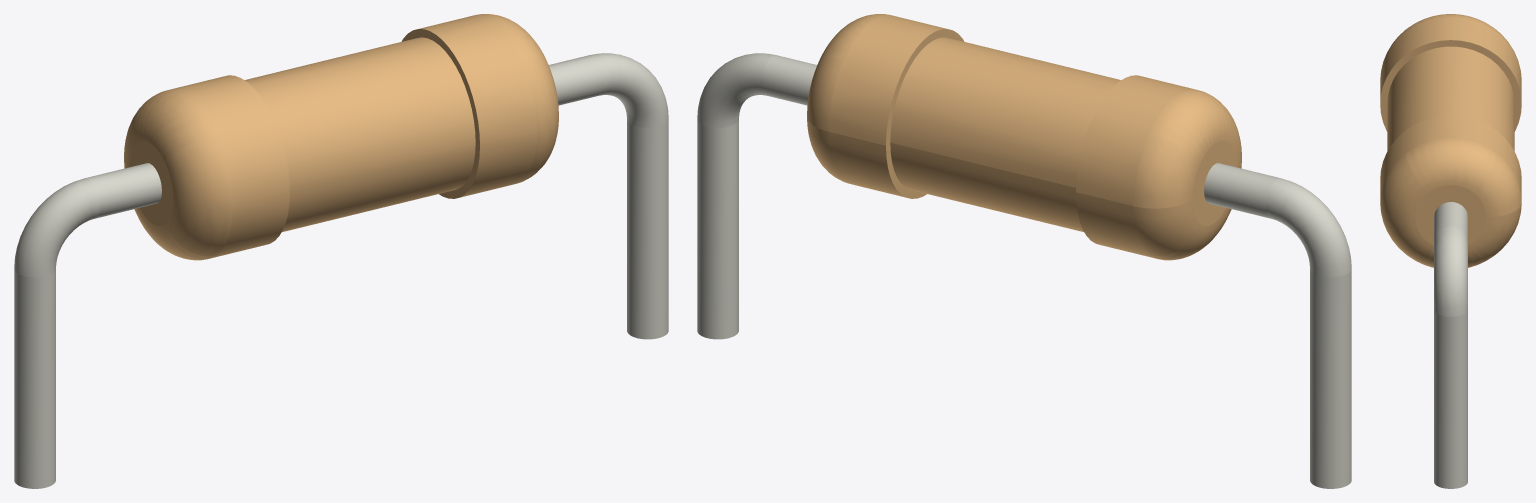
Rendered from resistor_axial.glb.
3 renders of one model, left to right at view 1: azimuth 30°, elevation 25°; view 2: azimuth 150°, elevation 25°; view 3: azimuth 270°, elevation 25°, orthographic. The views are drawn at different scales.
Visible parts, largest first — view 1: R_Axial_DIN0207_L63mm_D25mm_P1016mm_Horizontal_c0, R_Axial_DIN0207_L63mm_D25mm_P1016mm_Horizontal_c1; view 2: R_Axial_DIN0207_L63mm_D25mm_P1016mm_Horizontal_c0, R_Axial_DIN0207_L63mm_D25mm_P1016mm_Horizontal_c1; view 3: R_Axial_DIN0207_L63mm_D25mm_P1016mm_Horizontal_c0, R_Axial_DIN0207_L63mm_D25mm_P1016mm_Horizontal_c1.
Part boxes in pixels (left/top/right/bottom): R_Axial_DIN0207_L63mm_D25mm_P1016mm_Horizontal_c0: left=124, top=14, right=558, bottom=260; R_Axial_DIN0207_L63mm_D25mm_P1016mm_Horizontal_c1: left=14, top=53, right=668, bottom=488; R_Axial_DIN0207_L63mm_D25mm_P1016mm_Horizontal_c0: left=807, top=14, right=1241, bottom=260; R_Axial_DIN0207_L63mm_D25mm_P1016mm_Horizontal_c1: left=697, top=53, right=1351, bottom=488; R_Axial_DIN0207_L63mm_D25mm_P1016mm_Horizontal_c0: left=1380, top=14, right=1521, bottom=267; R_Axial_DIN0207_L63mm_D25mm_P1016mm_Horizontal_c1: left=1434, top=202, right=1467, bottom=488.
Size of the model in its own units: 0.0108 by 0.0055 by 0.0025.
